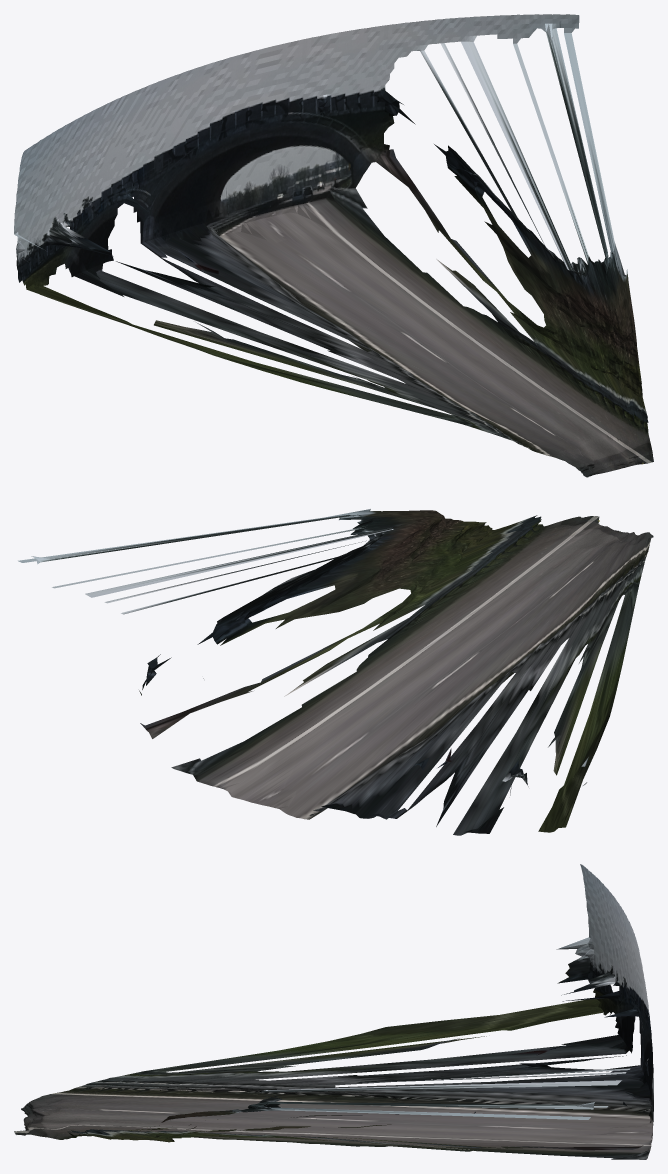
The picture shows the model from 3 angles, top to bottom: view 1: azimuth 30°, elevation 25°; view 2: azimuth 150°, elevation 25°; view 3: azimuth 270°, elevation 25°; orthographic projection. The views are drawn at different scales.
Parts seen in each view (by area): view 1: defaultobject; view 2: defaultobject; view 3: defaultobject.
Boxes of the visible parts, x1,y1,x2,y2 form: defaultobject: (14, 14, 653, 477); defaultobject: (18, 509, 653, 835); defaultobject: (14, 864, 653, 1159).
Bounding box in the file's own units: 40.44 × 12.47 × 44.88.
1 material, 1 textured.
